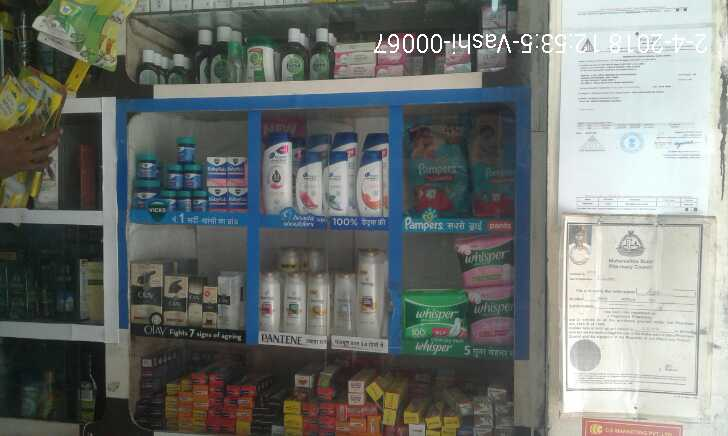vicks: (130, 179, 159, 213), (176, 135, 197, 162), (227, 158, 247, 186), (207, 158, 227, 186), (207, 186, 226, 213), (137, 153, 158, 177), (228, 188, 249, 211), (185, 164, 202, 189), (168, 164, 184, 188), (193, 191, 209, 215), (159, 192, 177, 213), (177, 192, 193, 215)
